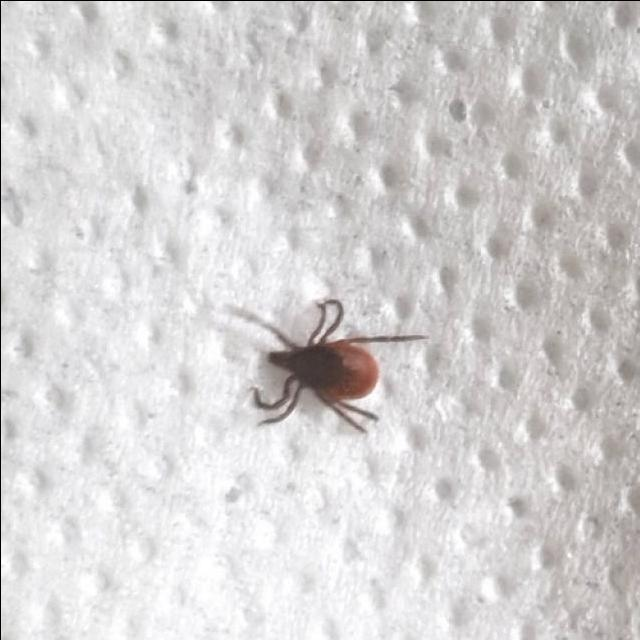Ixodes Ricinus-F: (250, 297, 424, 430)
